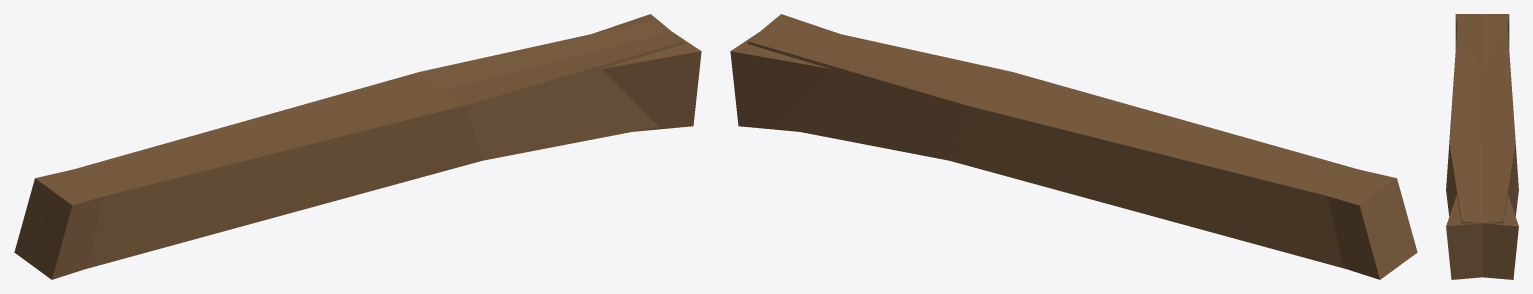
The model's file is Beam_005.fbx.
The picture shows the model from 3 angles, left to right: view 1: azimuth 30°, elevation 25°; view 2: azimuth 150°, elevation 25°; view 3: azimuth 270°, elevation 25°; orthographic projection. The views are drawn at different scales.
Visible parts, largest first — view 1: Beam.005; view 2: Beam.005; view 3: Beam.005.
Boxes of the visible parts, x1,y1,x2,y2 form: Beam.005: (14,14,701,279); Beam.005: (730,14,1417,279); Beam.005: (1446,14,1518,279).
Bounding box in the file's own units: 186 × 22.25 × 25.46.
